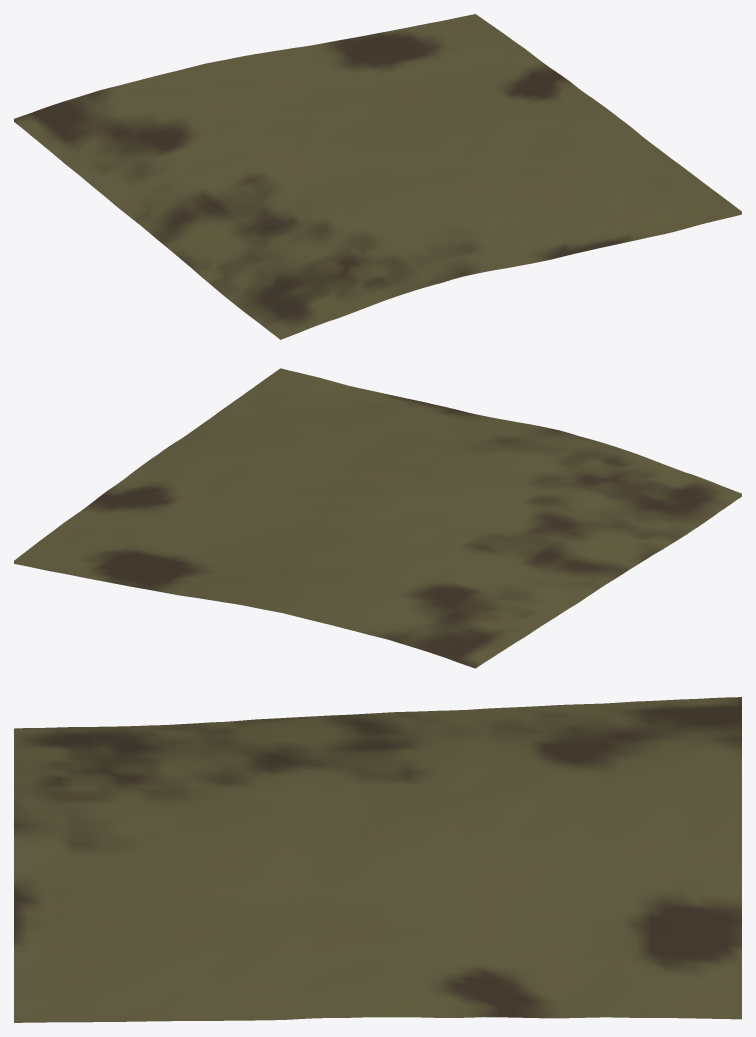
Rendered from land_m_10_11.glb.
The picture shows the model from 3 angles, top to bottom: view 1: azimuth 30°, elevation 25°; view 2: azimuth 150°, elevation 25°; view 3: azimuth 270°, elevation 25°; orthographic projection. The views are drawn at different scales.
Visible parts, largest first — view 1: land_m_10_11; view 2: land_m_10_11; view 3: land_m_10_11.
Boxes of the visible parts, bbox=[...] form: land_m_10_11: bbox=[14, 14, 741, 339]; land_m_10_11: bbox=[14, 368, 741, 668]; land_m_10_11: bbox=[14, 697, 741, 1022].
Bounding box in the file's own units: 960 × 68.67 × 960.
